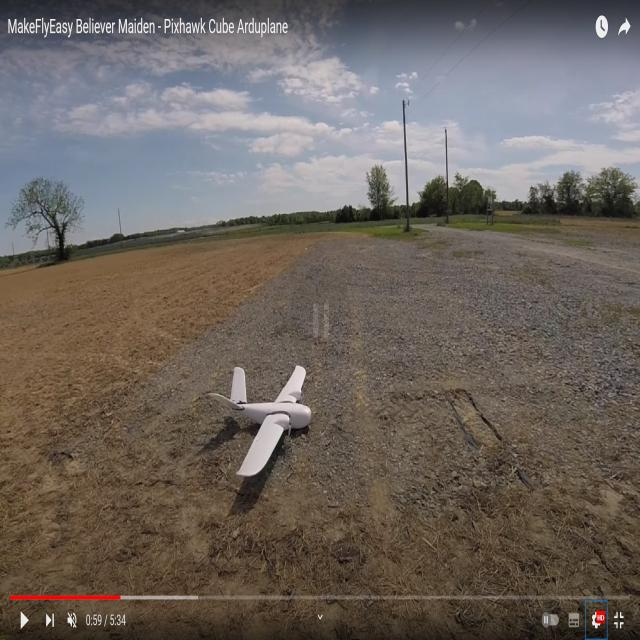iha: (240, 389, 275, 447)
